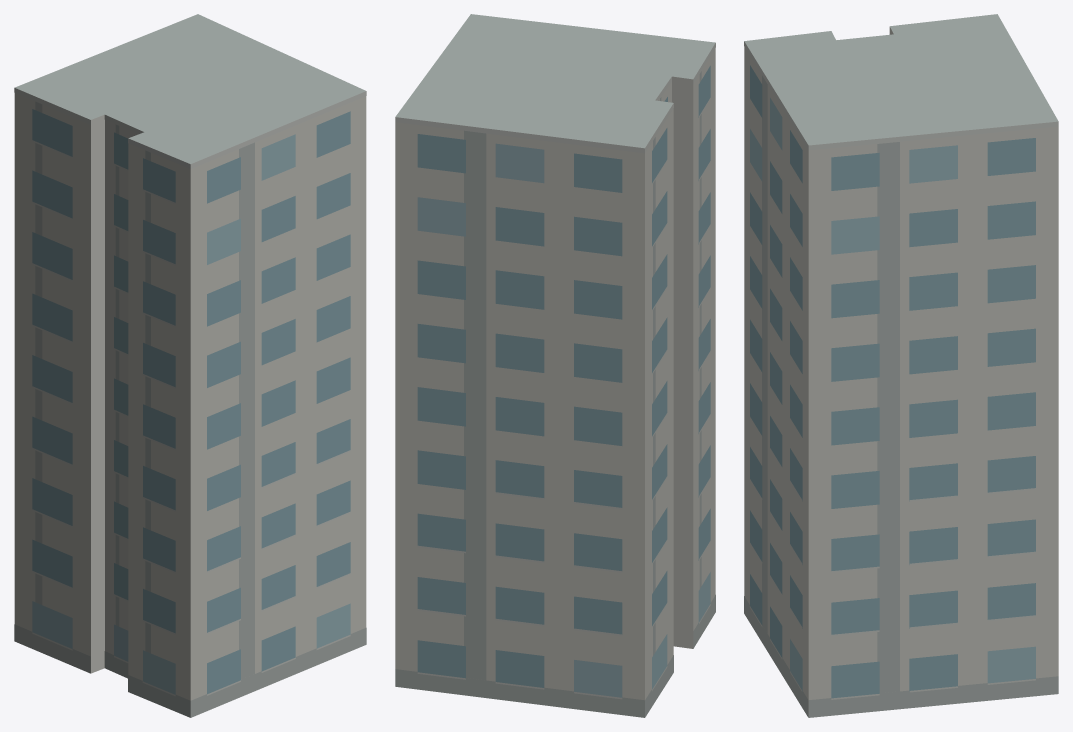
The model's file is survey-upis-32826525.glb.
The picture shows the model from 3 angles, left to right: view 1: azimuth 30°, elevation 25°; view 2: azimuth 150°, elevation 25°; view 3: azimuth 270°, elevation 25°; orthographic projection. The views are drawn at different scales.
Parts seen in each view (by area): view 1: survey-upis-32826525.tmp; view 2: survey-upis-32826525.tmp; view 3: survey-upis-32826525.tmp.
Part boxes in pixels (left/top/right/bottom): survey-upis-32826525.tmp: left=14, top=14, right=366, bottom=717; survey-upis-32826525.tmp: left=395, top=14, right=715, bottom=717; survey-upis-32826525.tmp: left=744, top=14, right=1058, bottom=717.
Size of the model in its own units: 13.51 by 27.4 by 13.66.
